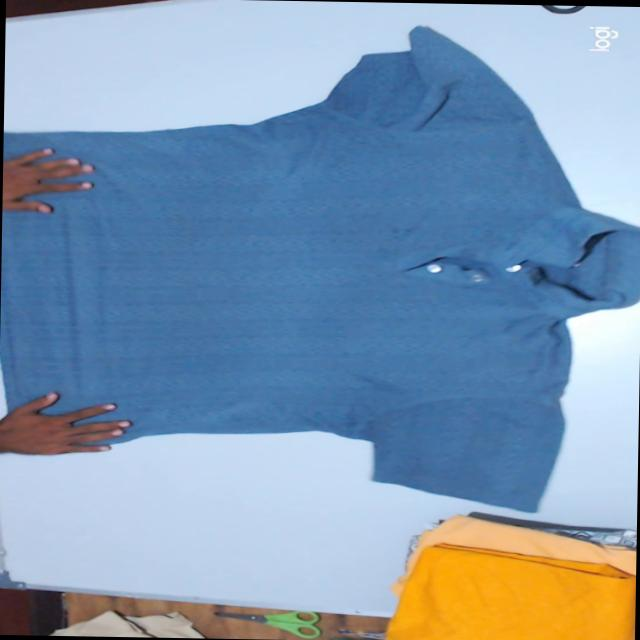new-garment: (0, 26, 640, 510)
